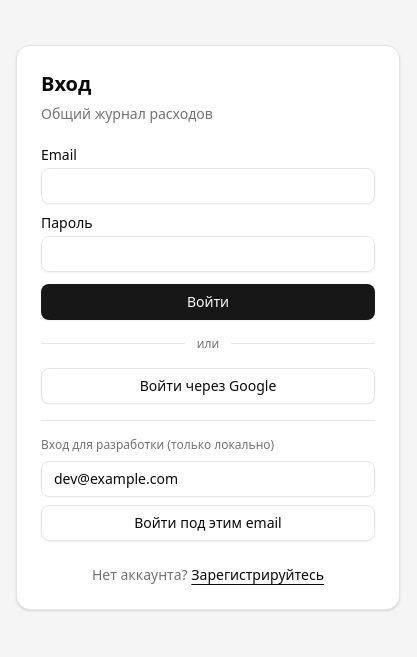
Test: LoginPage — credentials form › shows a friendly message on 401
Step 1. Type "user@example.com" into the field labelled "Email" → (208, 186), box top-left (41, 168), bottom-right (375, 204)
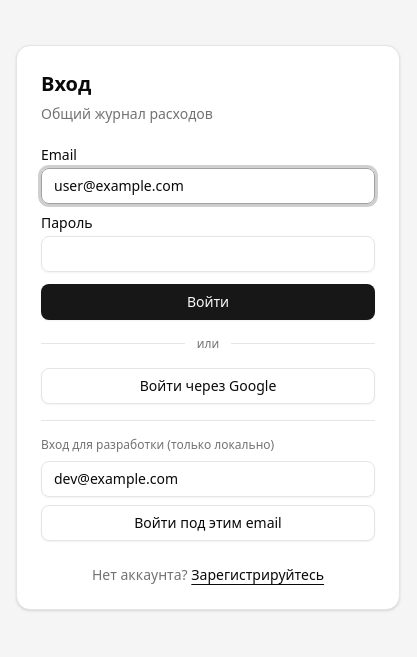
Step 2. Type "wrong" into the password field labelled "Пароль" → (208, 254), box top-left (41, 236), bottom-right (375, 272)
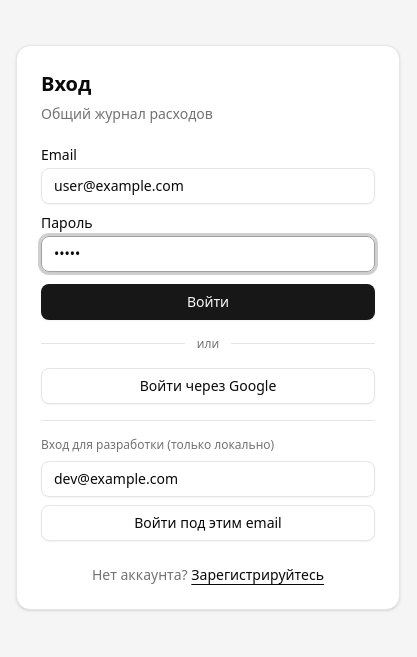
Step 3. Click the button "Войти" → (208, 302), box top-left (41, 284), bottom-right (375, 320)
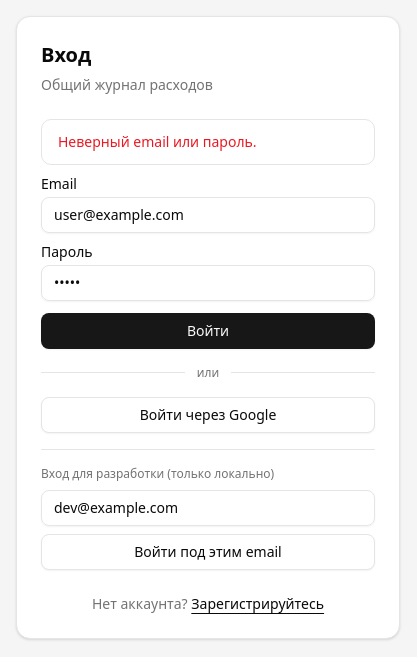
Now the text "Неверный email или пароль." is shown, box top-left (58, 132), bottom-right (257, 150)
